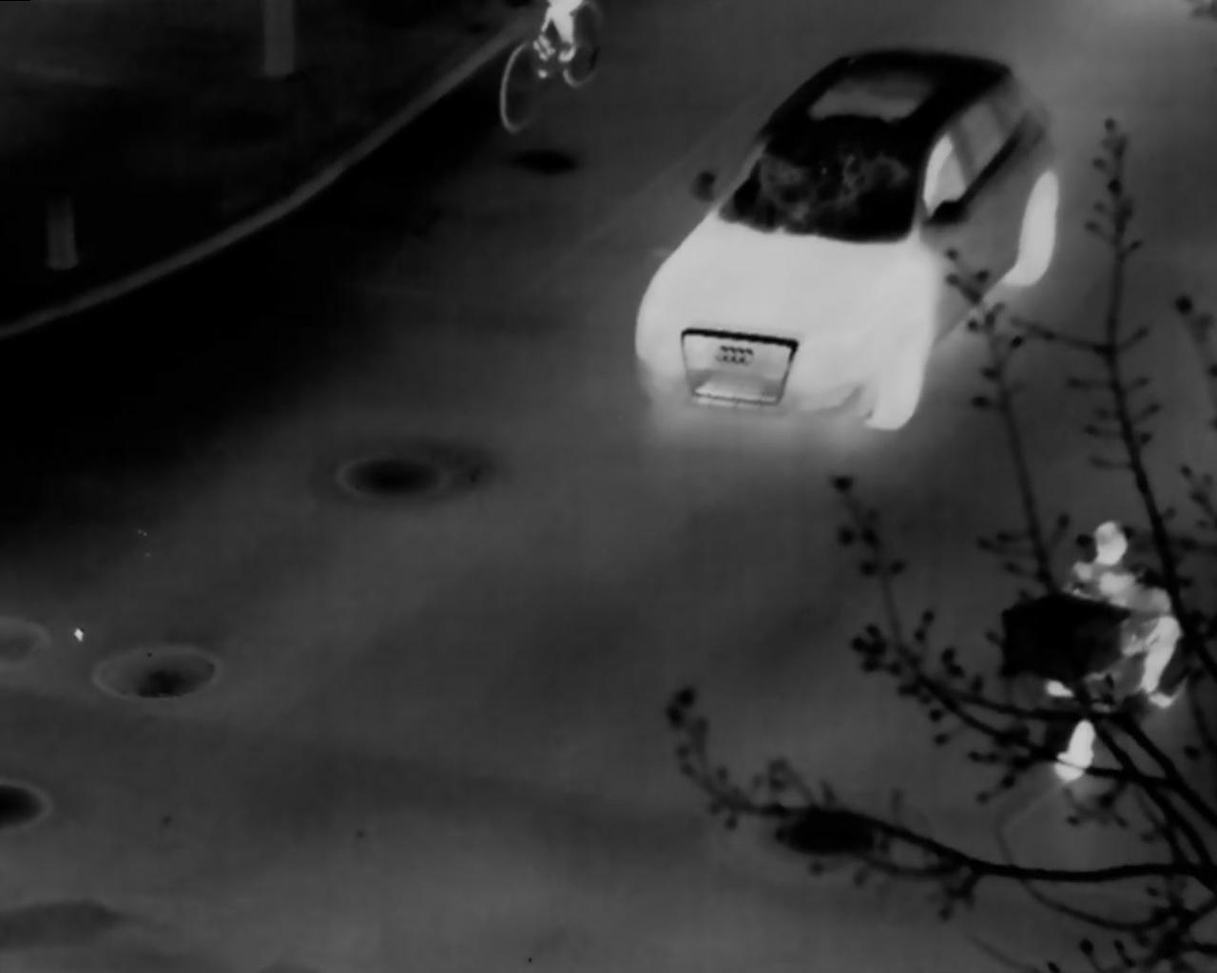person: (1045, 519, 1179, 710)
